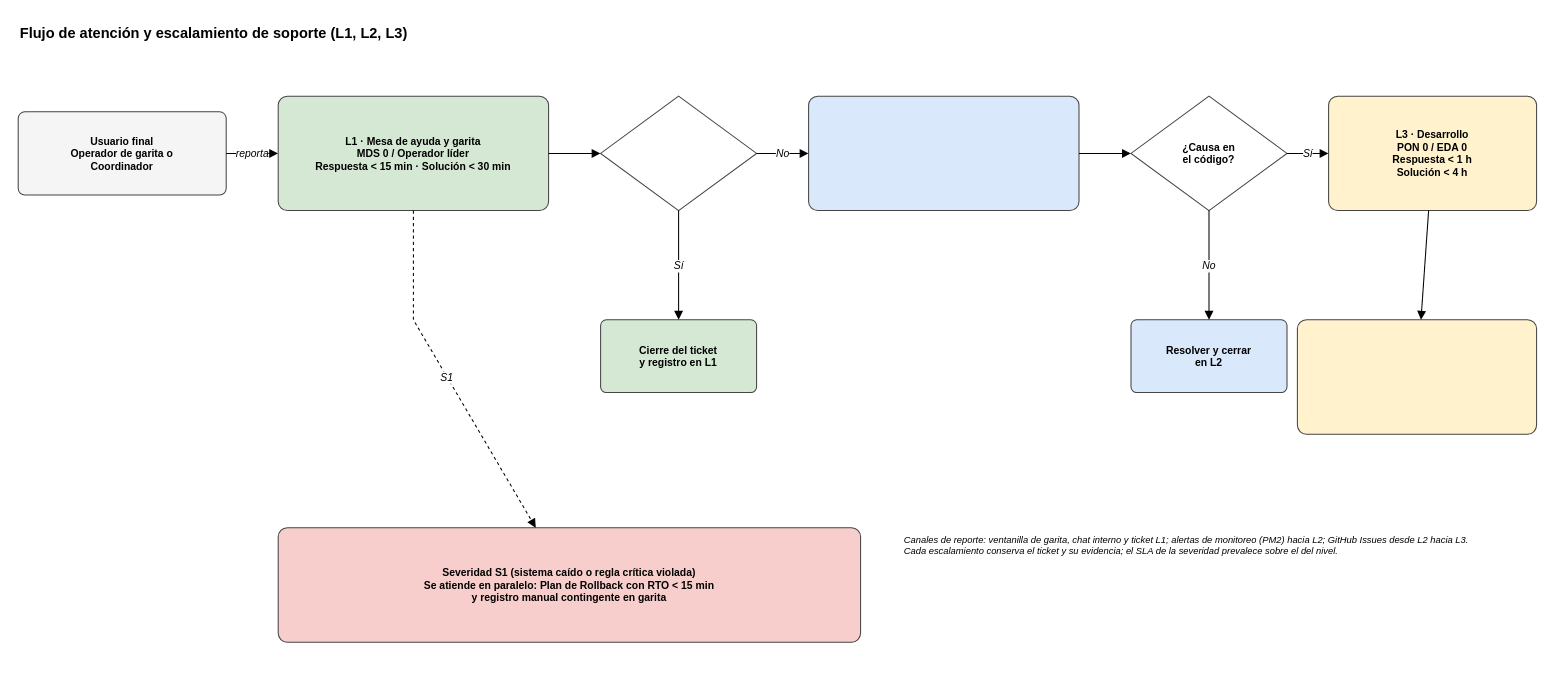
Some shapes in this 1555 by 680 pixel diagram are drawn without their labels. Each missing label, with the centre of its shape:
L2 · Infraestructura y redes GSO 0 / GRE 1 Respuesta < 30 min · Solución < 2 h: (943,153)
Rama bugfix/ + pruebas Jest Pull Request con Code Review Hotfix y verificación: (1416,376)
¿Resuelto en L1?: (678,153)
